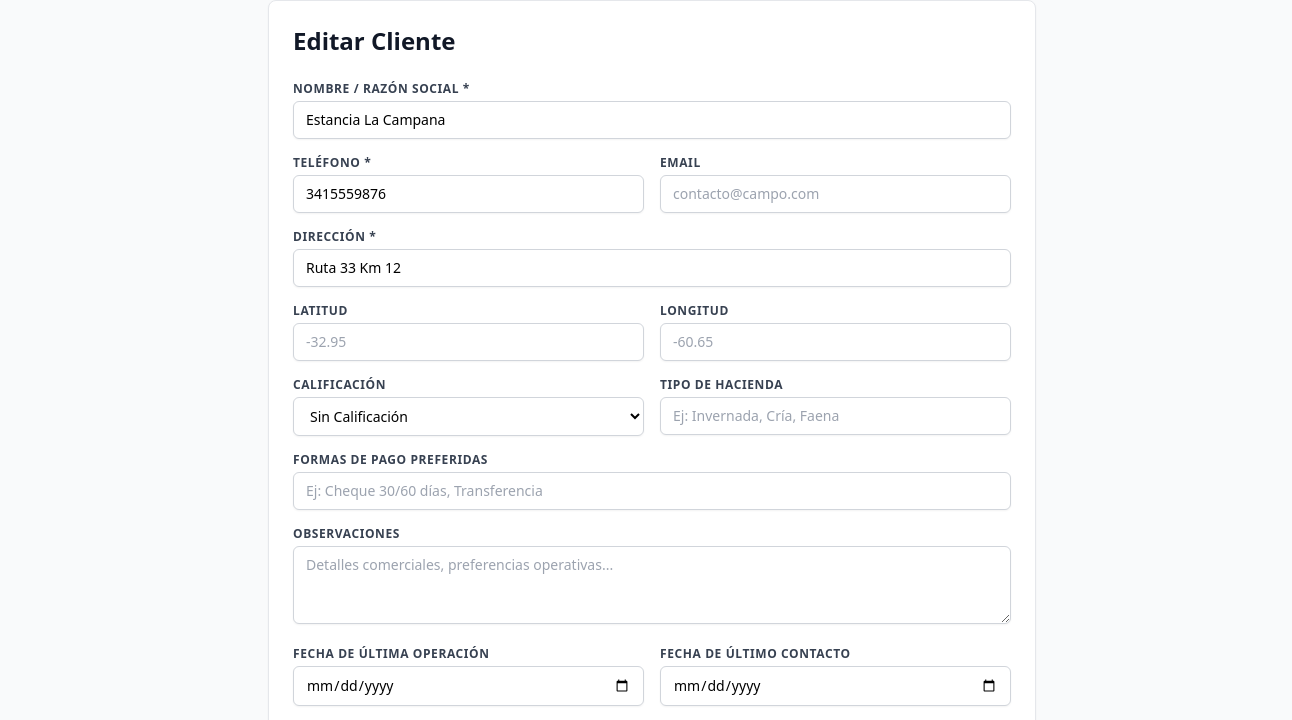
Scenario: ClientesPage › submits edit form with PUT, refreshes clients, shows Toast with "✅ Cambios guardados", and returns to ClienteDetail with updated data
Replace the text in the field labelled "Nombre / Razón Social *" with "Estancia La Campana Renovada" at (652, 120), box [293,101,1011,139]
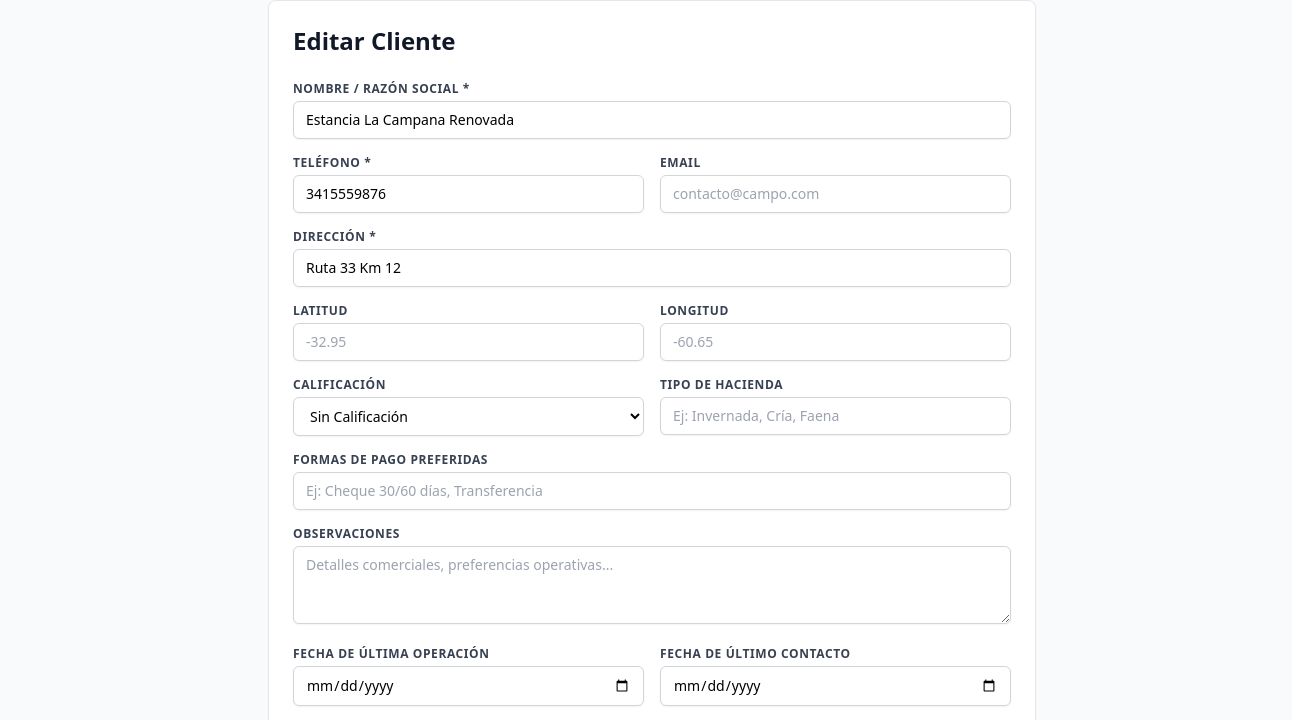
Replace the text in the field labelled "Teléfono *" with "3415559999" at (468, 194), box [293,175,644,213]
(page scrolled)
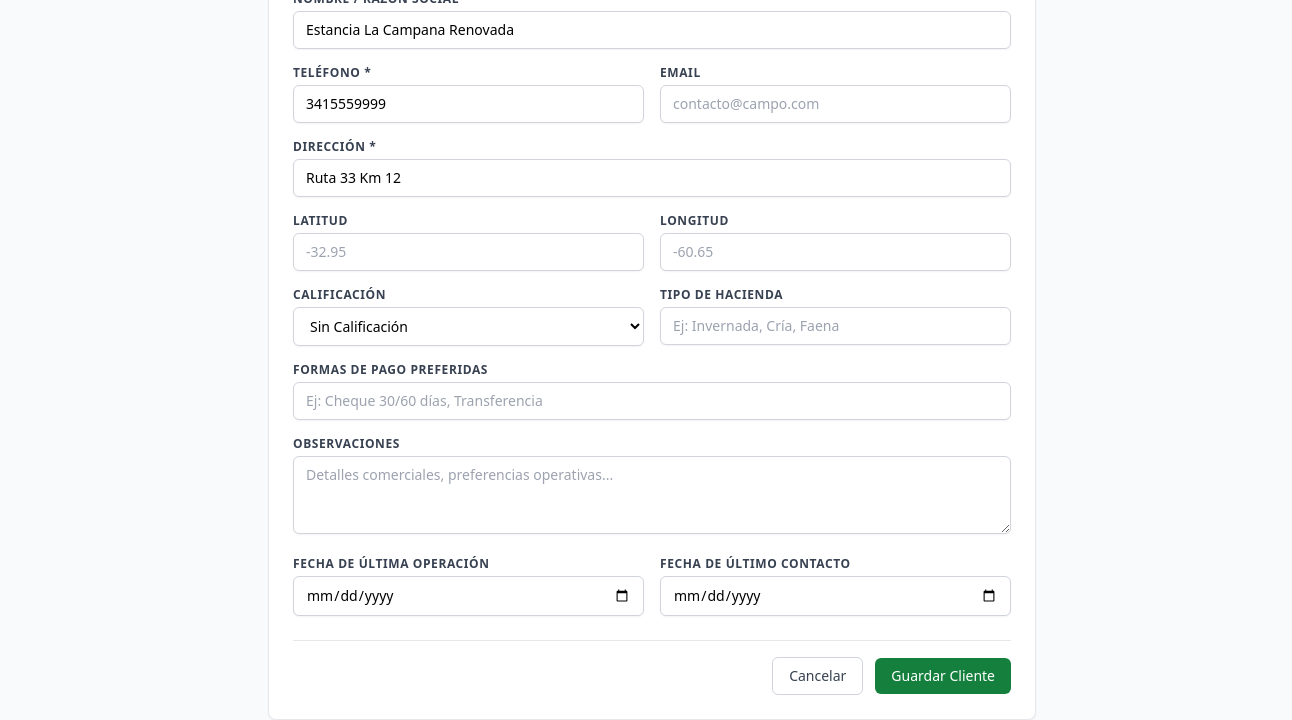
Click the button "Guardar Cliente" at (943, 676), box [875,658,1011,694]
(page scrolled)
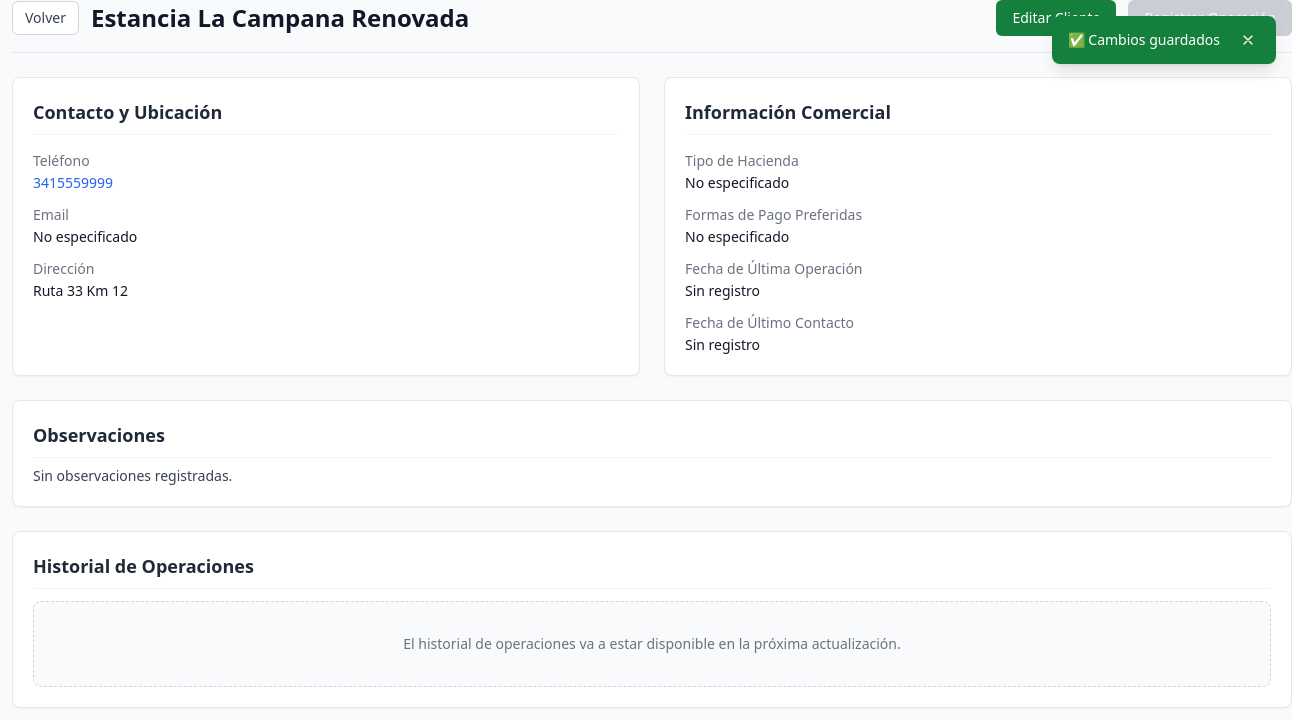
Check: the heading "Estancia La Campana Renovada" is shown, box [91,2,469,34]
Check: the text "✅ Cambios guardados" is shown, box [1068,30,1220,50]
Check: the link "3415559999" is shown, box [33,173,113,192]
